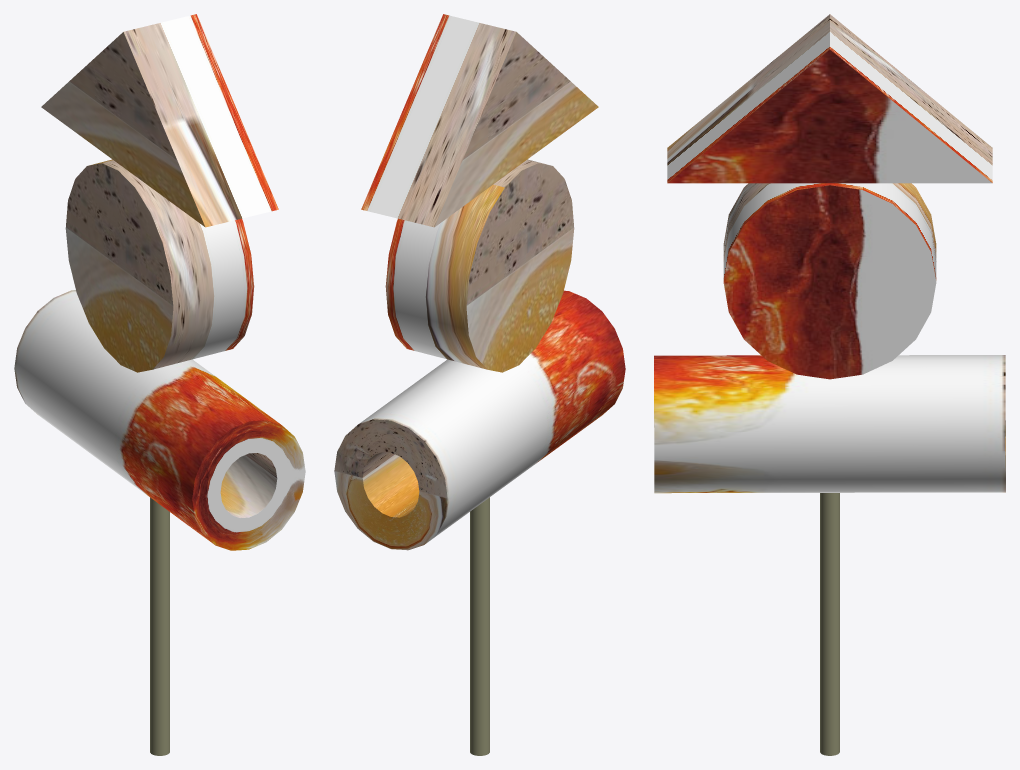
The model's file is Oden.FBX.
3 renders of one model, left to right at view 1: azimuth 30°, elevation 25°; view 2: azimuth 150°, elevation 25°; view 3: azimuth 270°, elevation 25°, orthographic.
Visible parts, largest first — view 1: pCylinder3; view 2: pCylinder3; view 3: pCylinder3.
Part boxes in pixels (x1,y1,x2,y2): pCylinder3: (14,14,305,755); pCylinder3: (334,14,625,755); pCylinder3: (654,14,1005,755).
Size of the model in its own units: 2.86 by 17.57 by 7.78.
Materials: 2 (1 with a texture image).
